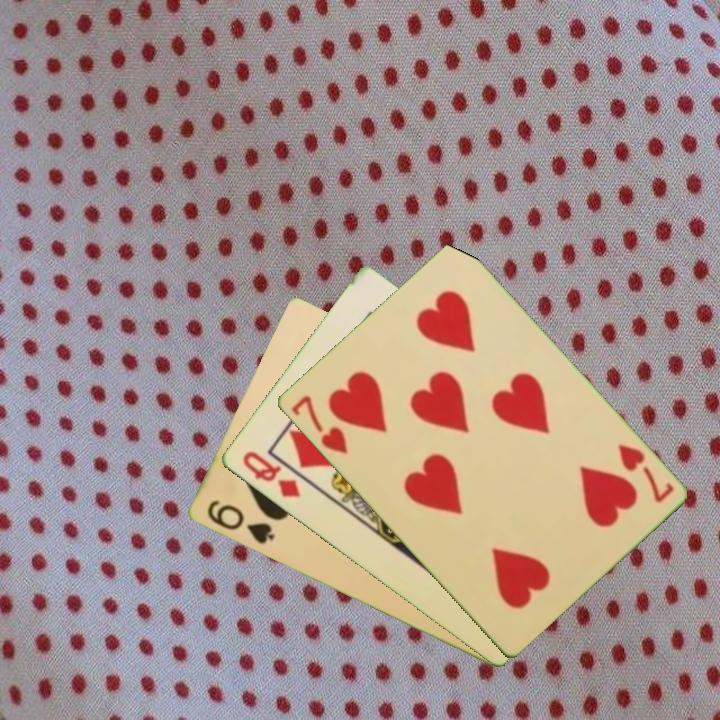6s: (203, 496, 277, 548)
7h: (286, 391, 351, 457), (613, 440, 677, 506)
Qd: (238, 447, 303, 501)
